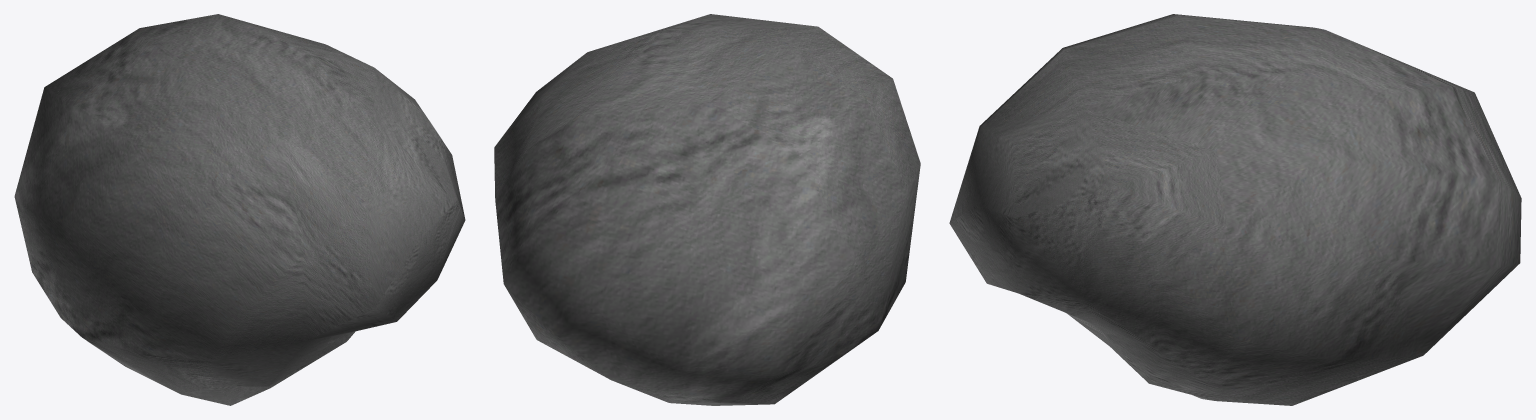
File: StoneShape13.dae
3 renders of one model, left to right at view 1: azimuth 30°, elevation 25°; view 2: azimuth 150°, elevation 25°; view 3: azimuth 270°, elevation 25°, orthographic. The views are drawn at different scales.
Parts seen in each view (by area): view 1: Stone13; view 2: Stone13; view 3: Stone13.
Part boxes in pixels (x1,y1,x2,y2): Stone13: (14, 14, 465, 405); Stone13: (494, 14, 920, 405); Stone13: (949, 14, 1521, 405).
Size of the model in its own units: 8.83 by 7.61 by 10.69.
